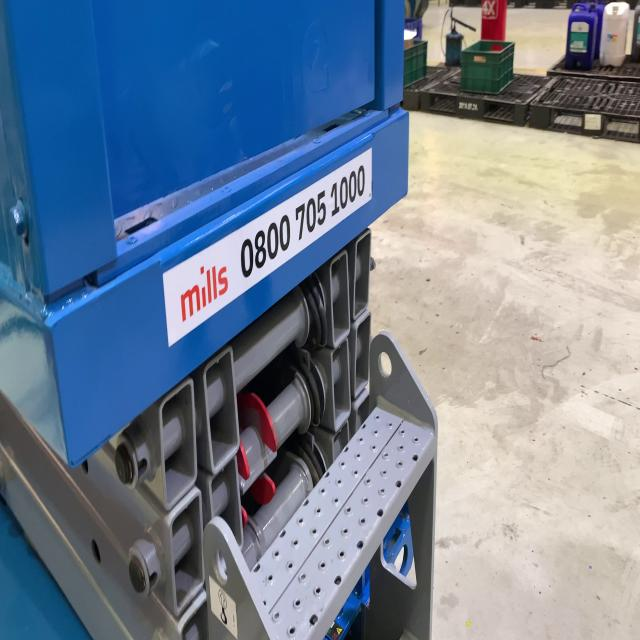Adesivo Longo: (159, 143, 376, 353)
